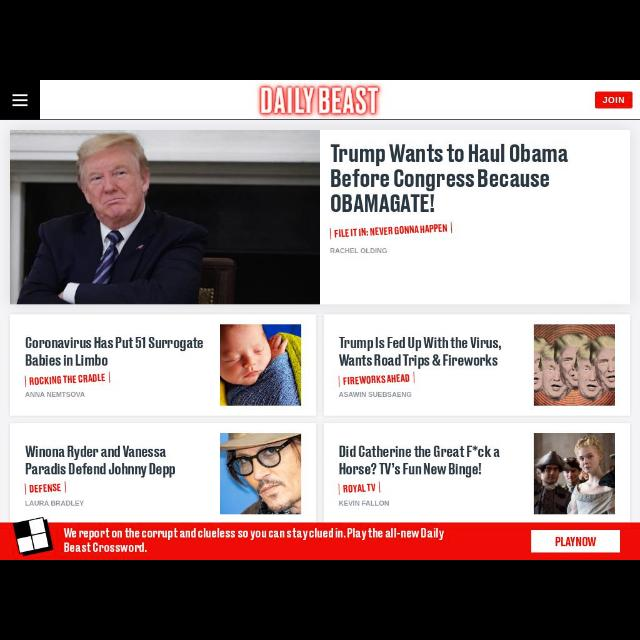icon: (11, 92, 31, 110)
image: (10, 130, 320, 304), (534, 433, 616, 515), (220, 324, 302, 404), (221, 433, 301, 515), (535, 324, 615, 404), (255, 82, 381, 118), (11, 519, 53, 555)
text: (330, 138, 570, 212), (62, 526, 450, 554), (21, 330, 205, 370), (337, 440, 505, 480), (336, 332, 504, 370), (23, 441, 178, 479), (328, 222, 454, 242), (21, 371, 115, 387), (337, 372, 419, 388), (340, 388, 414, 402), (337, 480, 385, 496), (20, 388, 89, 399), (23, 497, 86, 509), (328, 244, 390, 256), (24, 480, 70, 494), (552, 534, 598, 548), (338, 495, 390, 507), (603, 95, 625, 104)
textbutton: (530, 528, 622, 554), (596, 90, 634, 108)
toolbar: (1, 81, 639, 121)
